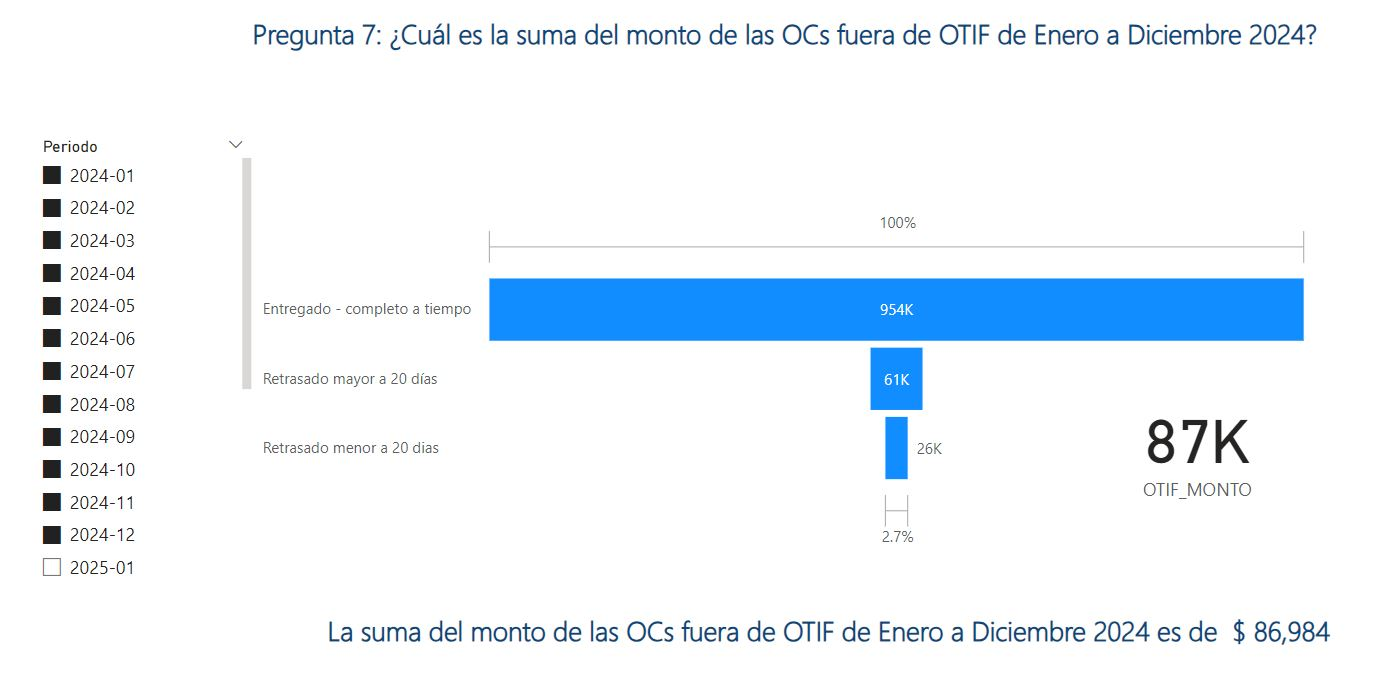

The page's visual inventory and layout, read from the dashboard file:
{"tool":"powerbi","page":{"name":"PREGUNTA 7","canvas":[1280,720],"ordinal":10},"visuals":[{"type":"textbox","box":[185.9,61.6,1031.5,56.8],"z":0},{"type":"funnel","fields":{"Category":["Estado_Entrega.Descripción"],"Y":["Sum(Orden_Compra_Detalle.Monto Total)"]},"box":[234,187.8,938.1,403.6],"z":1000},{"type":"slicer","fields":{"Values":["Calendario.anio_mes"]},"box":[30.8,171.4,203.2,404.5],"z":2000},{"type":"textbox","box":[225.4,591.4,1031.5,56.8],"z":3000},{"type":"card","fields":{"Values":["Almacenes.OTIF_MONTO"]},"box":[893.6,373.8,348.5,150.7],"z":4000}]}

Visuals, with their boxes on the page's 1280x720 design canvas (x1, y1, x2, y2). These are canvas units, not pixel positions in the 1389x690 screenshot, which may show the page scaled, cropped or inside an application window:
textbox: 186 62 1217 118
funnel - Estado_Entrega.Descripción x Sum(Orden_Compra_Detalle.Monto Total): 234 188 1172 591
slicer - Calendario.anio_mes: 31 171 234 576
textbox: 225 591 1257 648
card - Almacenes.OTIF_MONTO: 894 374 1242 524
